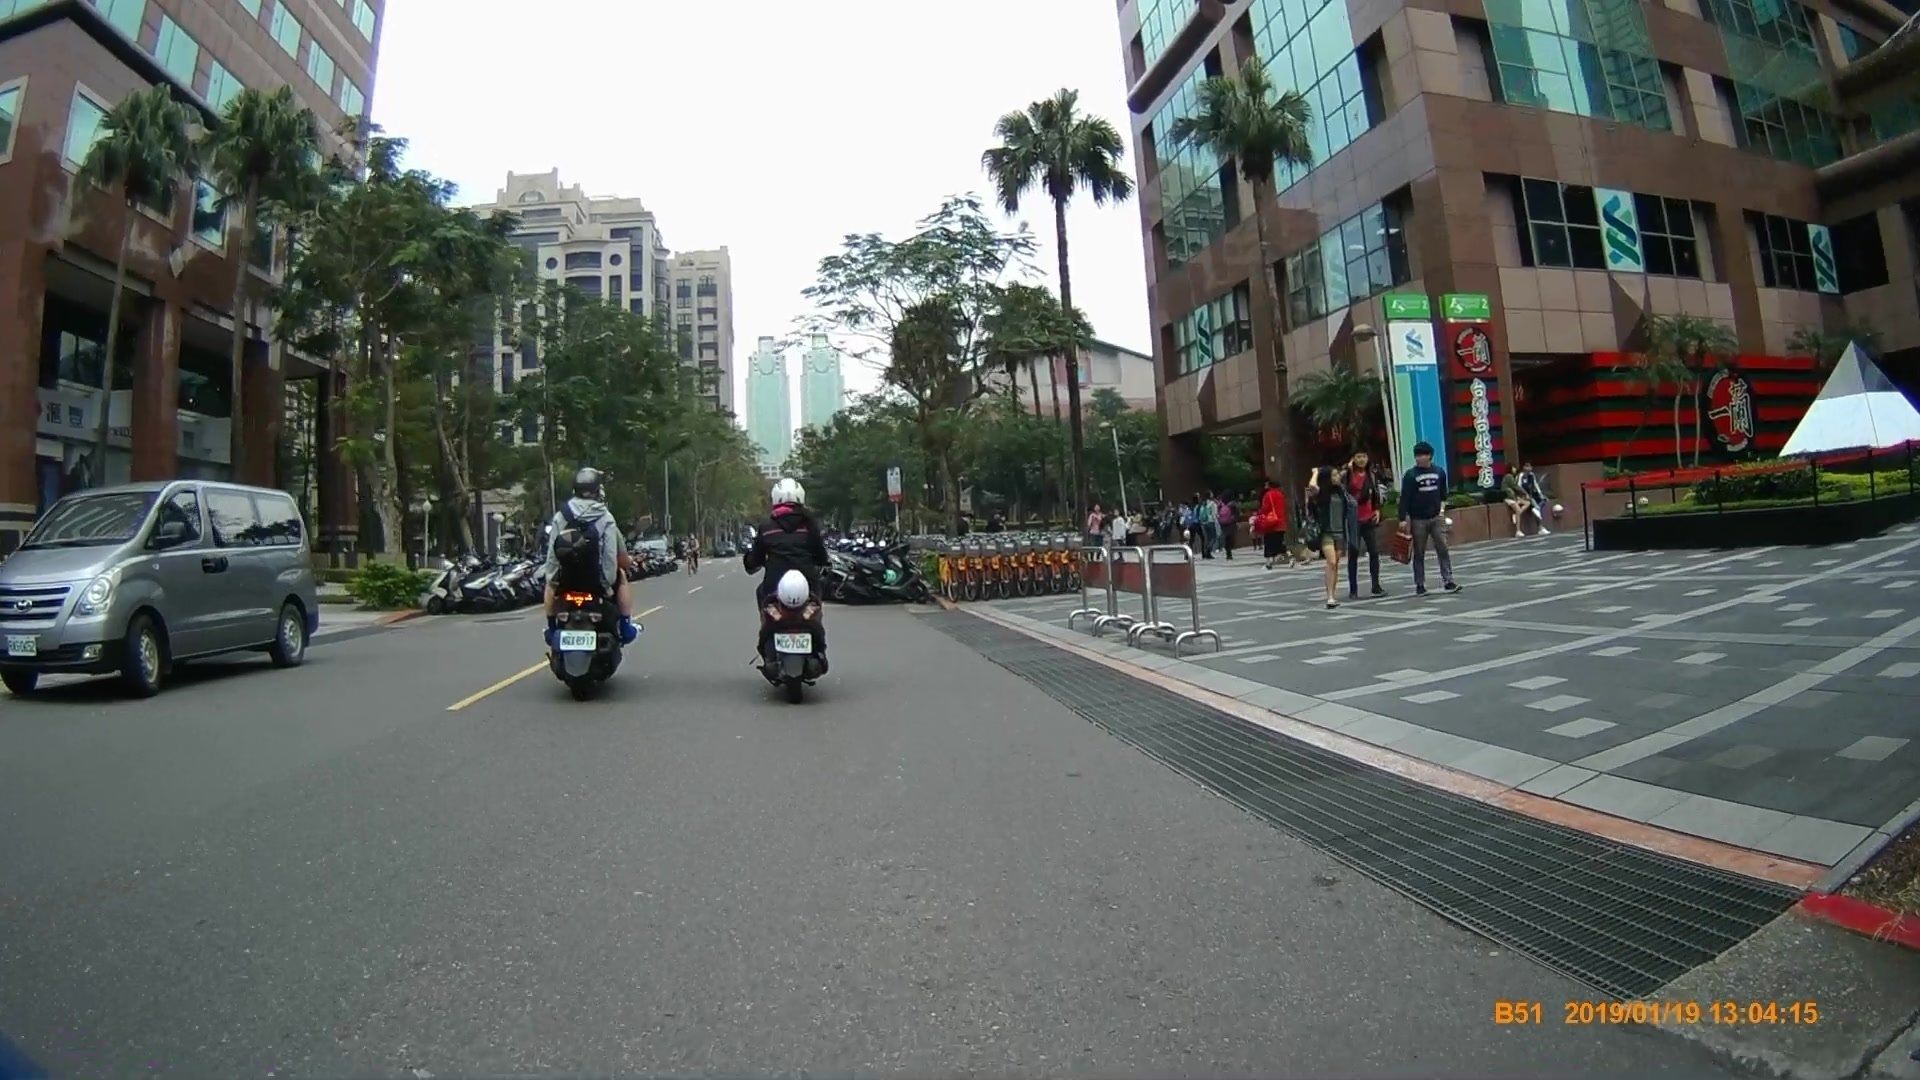License_plate: (554, 625, 600, 654), (770, 630, 815, 657), (3, 631, 42, 659)
